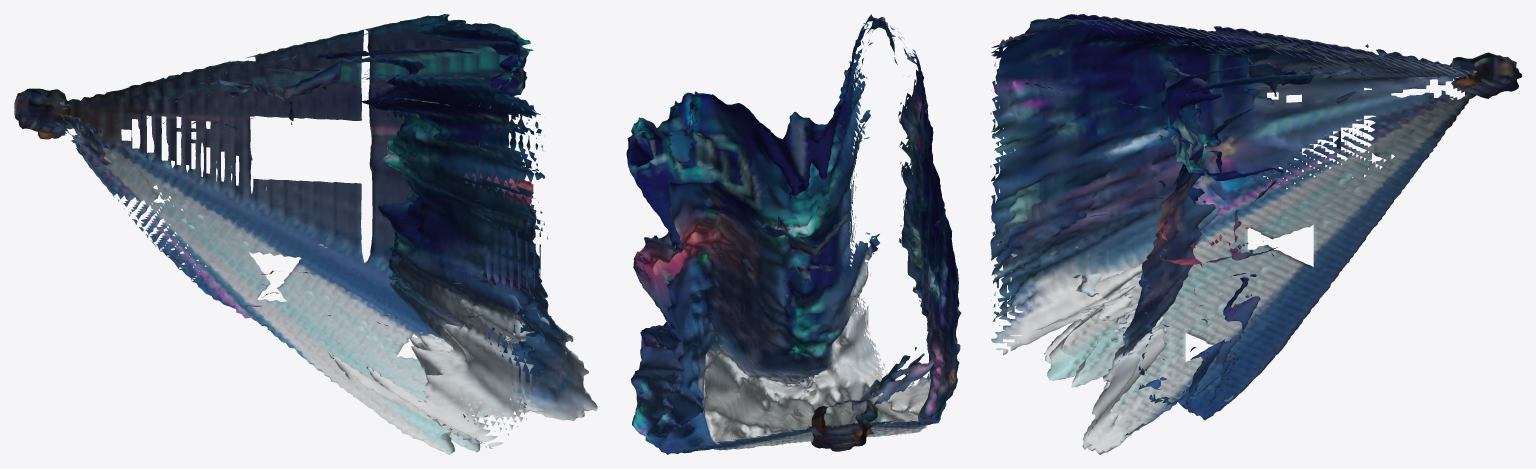
File: Rainy Cyberpunk Loft Cityscape_collider.glb
3 views of the same model, side by side, from view 1: azimuth 30°, elevation 25°; view 2: azimuth 150°, elevation 25°; view 3: azimuth 270°, elevation 25° (orthographic). The views are drawn at different scales.
Visible parts, largest first — view 1: world; view 2: world; view 3: world.
Boxes of the visible parts, x1,y1,x2,y2 form: world: (14,14,597,454); world: (626,14,961,454); world: (990,14,1521,454).
Size of the model in its own units: 28.99 by 29.81 by 37.98.
